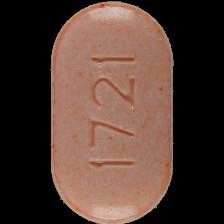63187-674: (0, 0, 224, 224)
